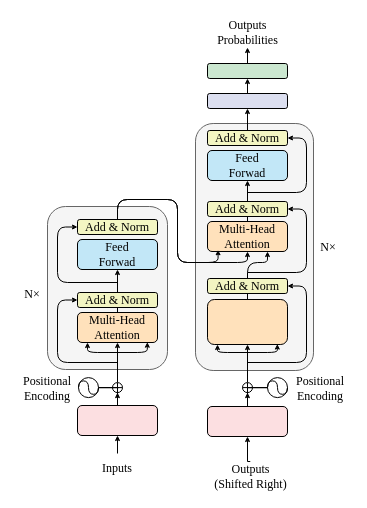
The diagram is 367 pixels wide and 508 high, and some of its shapes have lost their labels. The shapes that lost their labels are listed below. From the top down, each one's box as (x1, y1, x2, y2) in pixels, then its label:
(206, 62, 288, 78): Softmax
(206, 92, 288, 108): Linear
(206, 298, 288, 344): Masked Multi-Head Attention
(76, 404, 158, 436): Input Embedding
(206, 406, 288, 436): Output Embedding
